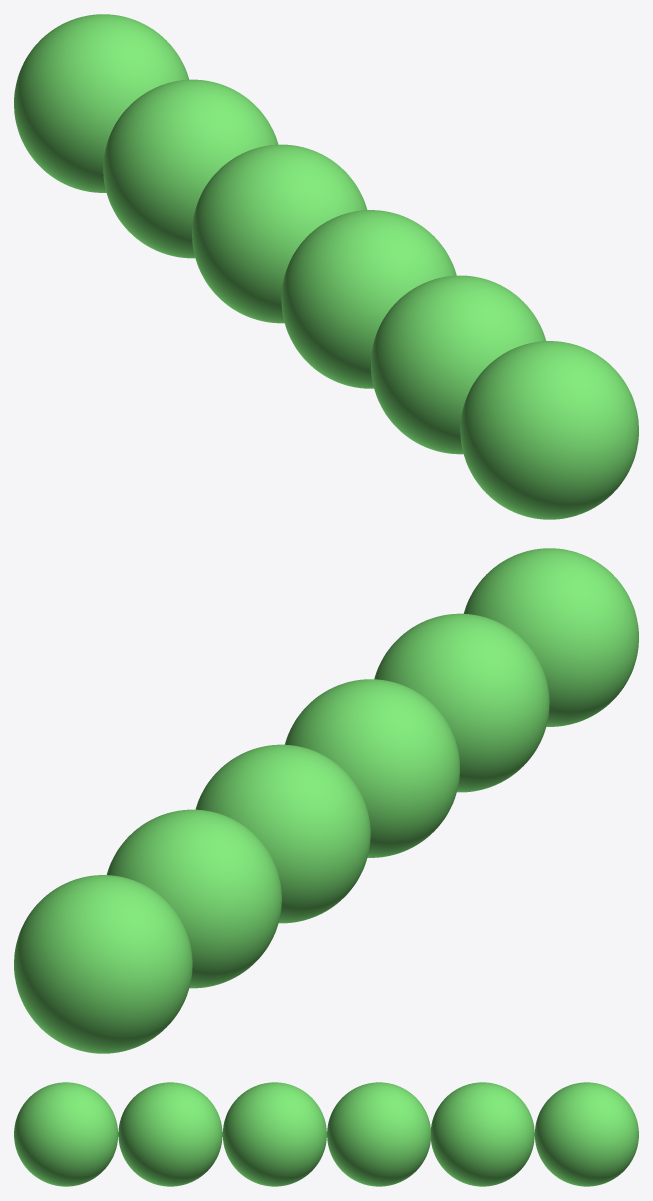
3 views of the same model, one above another, from view 1: azimuth 30°, elevation 25°; view 2: azimuth 150°, elevation 25°; view 3: azimuth 270°, elevation 25° (orthographic). The views are drawn at different scales.
Visible parts, largest first — view 1: Sphere.005, Sphere.004, Sphere.002, Sphere.003, Sphere.001, Sphere; view 2: Sphere.001, Sphere.004, Sphere.005, Sphere, Sphere.003, Sphere.002; view 3: Sphere.004, Sphere.001, Sphere.005, Sphere.003, Sphere, Sphere.002.
Boxes of the visible parts, x1,y1,x2,y2 form: Sphere.005: [460, 341, 638, 519]; Sphere.004: [371, 275, 545, 454]; Sphere.002: [192, 144, 367, 323]; Sphere.003: [281, 210, 456, 388]; Sphere.001: [14, 14, 188, 192]; Sphere: [103, 79, 278, 258]; Sphere.001: [14, 875, 192, 1053]; Sphere.004: [374, 613, 549, 792]; Sphere.005: [463, 548, 638, 726]; Sphere: [106, 809, 281, 988]; Sphere.003: [285, 679, 459, 857]; Sphere.002: [195, 744, 370, 923]; Sphere.004: [118, 1082, 222, 1186]; Sphere.001: [534, 1082, 638, 1186]; Sphere.005: [14, 1082, 118, 1186]; Sphere.003: [222, 1082, 326, 1186]; Sphere: [431, 1082, 534, 1186]; Sphere.002: [327, 1082, 430, 1186].
Bounding box in the file's own units: 2 × 2 × 11.99.
